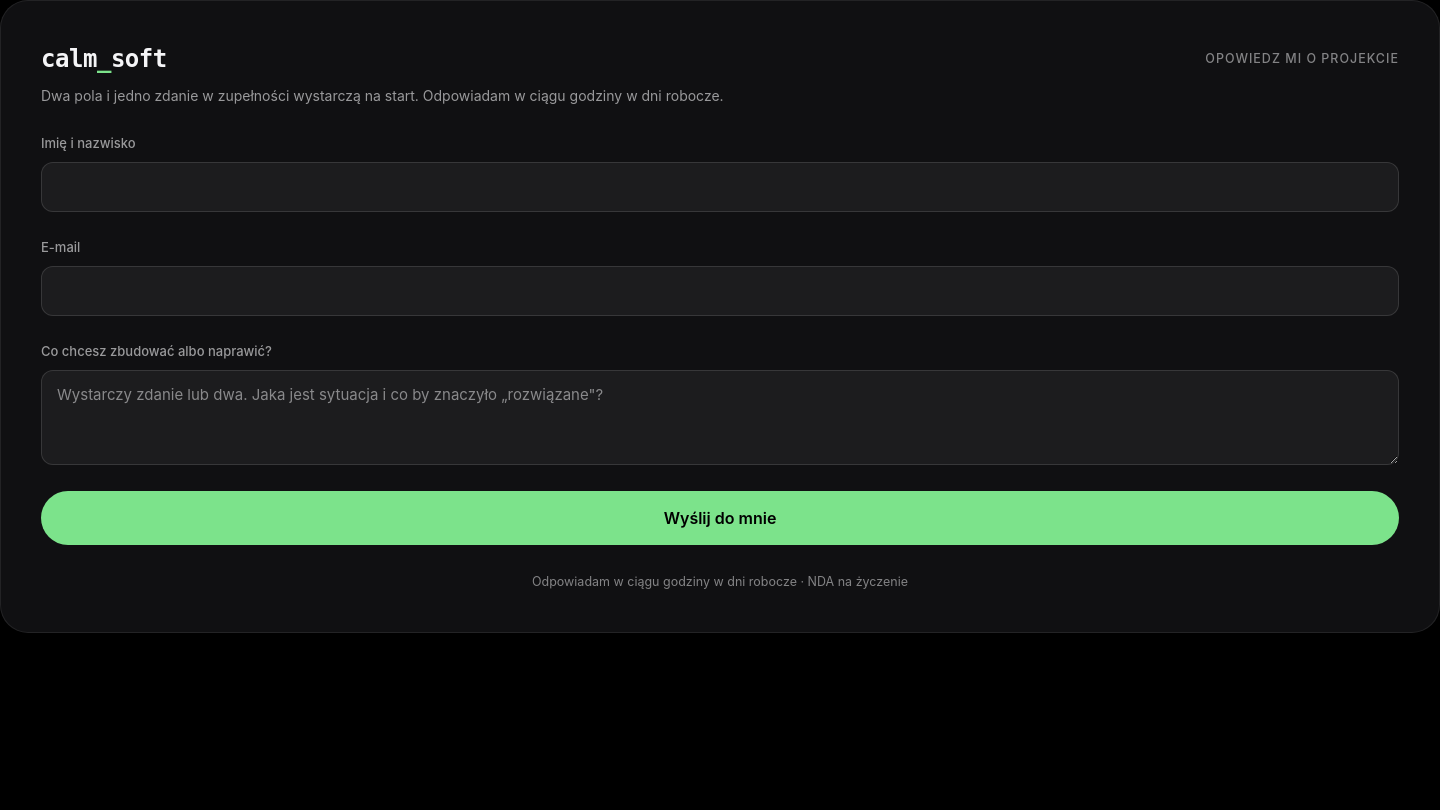
Test: ContactForm step 1 (SPEC §8, §14.2) › shows a distinct message for an empty email vs an invalid one
This screenshot has width=1440, height=810.
Type "Anna Nowak" into the field labelled "Imię i nazwisko".
click(720, 187); type("Anna Nowak")  # box [41,162,1399,212]
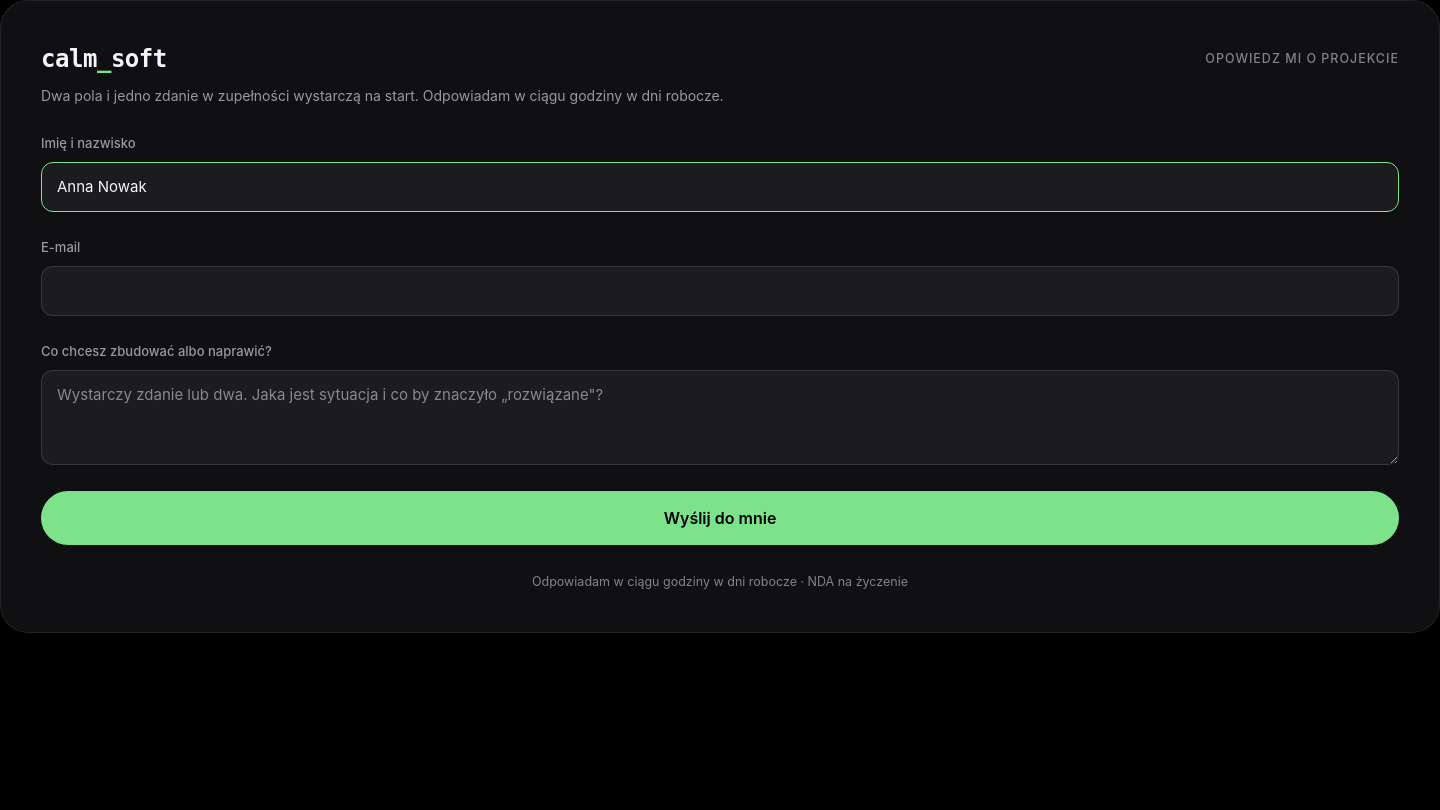
Type "We need a new platform." into the text box labelled "Co chcesz zbudować albo naprawić?".
click(720, 417); type("We need a new platform.")  # box [41,370,1399,465]
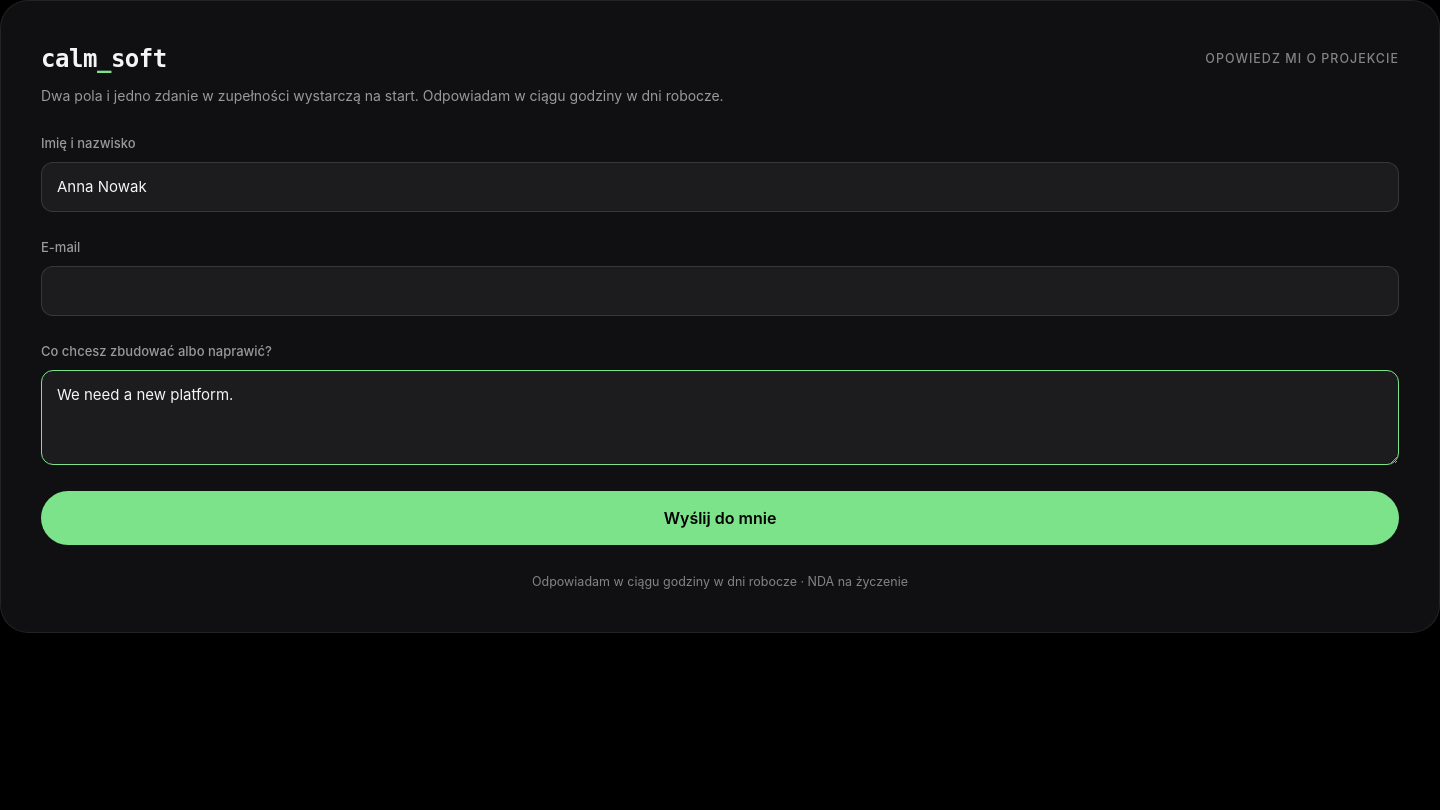
Click the button "Wyślij do mnie".
click(720, 518)  # box [41,491,1399,545]
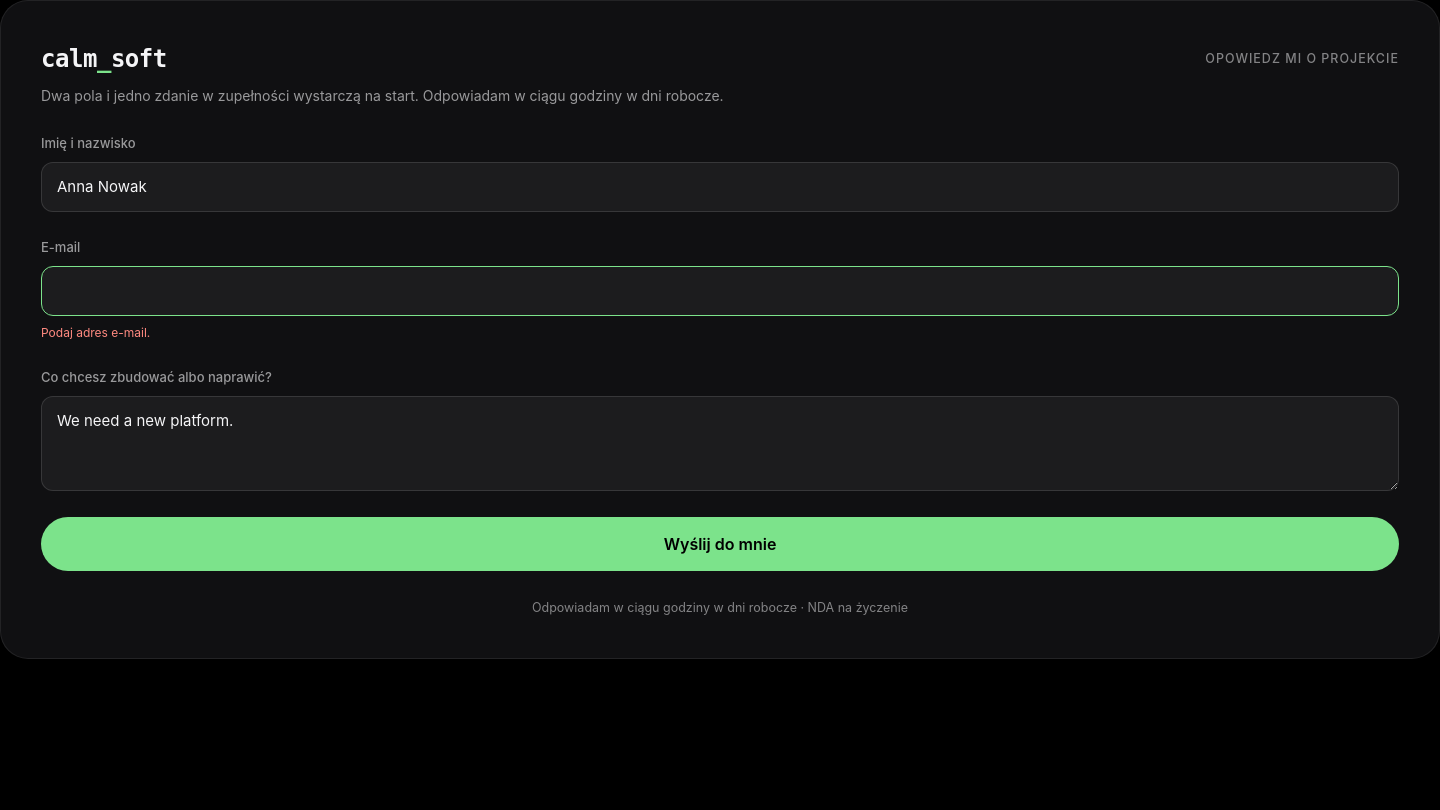
Now the text "Podaj adres e-mail." is shown, box [41,325,150,340]
